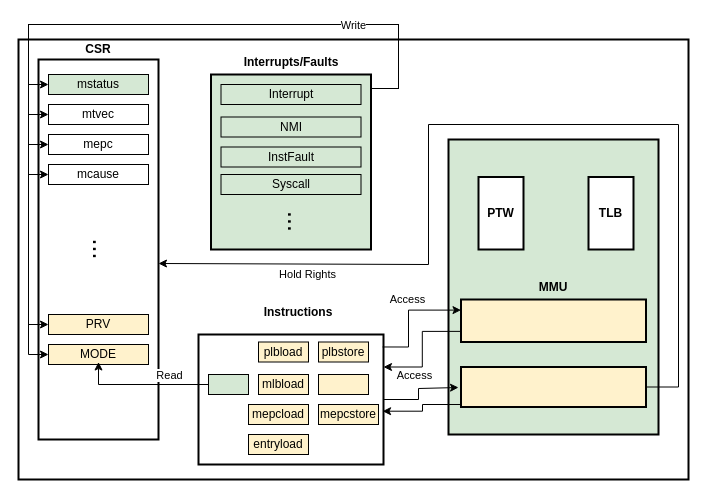
Some shapes in this 706 by 498 pixel diagram are drawn without their labels. The shapes that lost their labels are listed below. From the top down, each one's box as (x1, y1, x2, y2) in pixels, then its label:
(460, 298, 646, 342): Permission-Lookaside-Buffer
(208, 374, 248, 394): mret
(318, 374, 368, 394): mlbstore
(460, 366, 646, 408): Mode-Lookaside-Buffer
